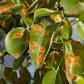Diseased_Leaves: (62, 50, 79, 80), (47, 9, 71, 28), (29, 41, 47, 65), (10, 29, 24, 45), (30, 24, 46, 38)
